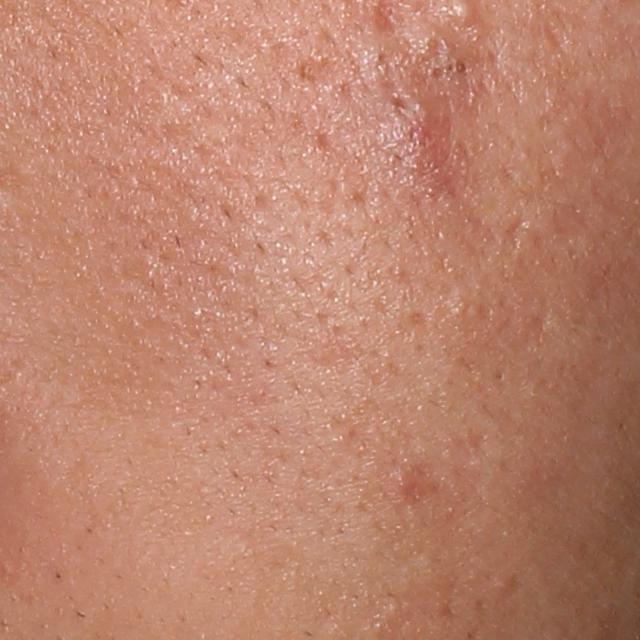atrophic_scar: (500, 216, 528, 256)
comedo: (451, 56, 472, 78), (427, 62, 446, 84), (490, 575, 510, 593)
papule: (388, 108, 442, 162), (393, 467, 417, 493)
